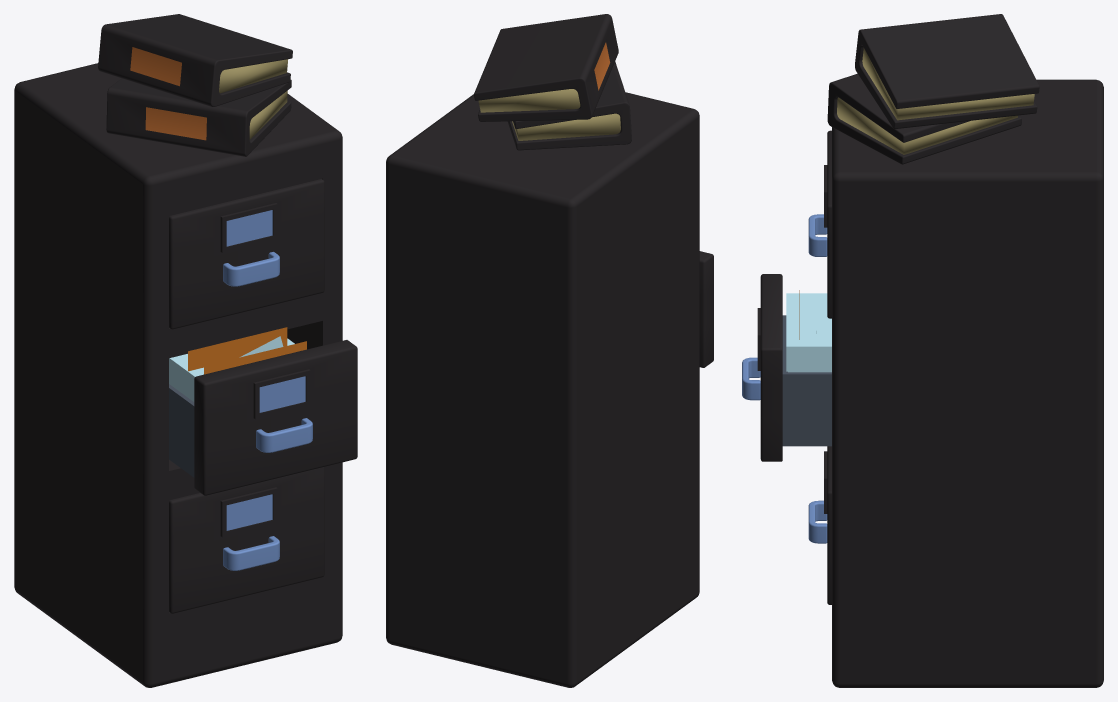
File: Teacher_drawer 1.fbx
The picture shows the model from 3 angles, left to right: view 1: azimuth 30°, elevation 25°; view 2: azimuth 150°, elevation 25°; view 3: azimuth 270°, elevation 25°; orthographic projection. The views are drawn at different scales.
Visible parts, largest first — view 1: Cube.303.frozen, bool_cube.042.extracted.001.frozen.002, bool_cube.042.extracted.001.frozen.001, bool_cube.042.extracted.001.frozen.003, Cube.307, Cube.306, c.033, c.031, c.032; view 2: Cube.303.frozen, Cube.307, Cube.306, bool_cube.042.extracted.001.frozen.002; view 3: Cube.303.frozen, Cube.307, bool_cube.042.extracted.001.frozen.002, Cube.306, c.031, bool_cube.042.extracted.001.frozen.001, bool_cube.042.extracted.001.frozen.003.
Boxes of the visible parts, x1,y1,x2,y2 form: Cube.303.frozen: [14, 63, 342, 687]; bool_cube.042.extracted.001.frozen.002: [169, 340, 357, 495]; bool_cube.042.extracted.001.frozen.001: [169, 179, 324, 329]; bool_cube.042.extracted.001.frozen.003: [169, 467, 324, 613]; Cube.307: [98, 14, 292, 106]; Cube.306: [106, 78, 291, 156]; c.033: [188, 327, 287, 371]; c.031: [169, 338, 294, 401]; c.032: [204, 341, 306, 374]; Cube.303.frozen: [386, 92, 699, 687]; Cube.307: [474, 14, 618, 121]; Cube.306: [507, 61, 631, 150]; bool_cube.042.extracted.001.frozen.002: [699, 251, 713, 367]; Cube.303.frozen: [832, 79, 1103, 687]; Cube.307: [855, 14, 1039, 129]; bool_cube.042.extracted.001.frozen.002: [742, 274, 831, 461]; Cube.306: [827, 73, 1021, 164]; c.031: [786, 293, 831, 372]; bool_cube.042.extracted.001.frozen.001: [808, 130, 831, 318]; bool_cube.042.extracted.001.frozen.003: [808, 446, 831, 604].
Bounding box in the file's own units: 54.43 × 157 × 85.12.
